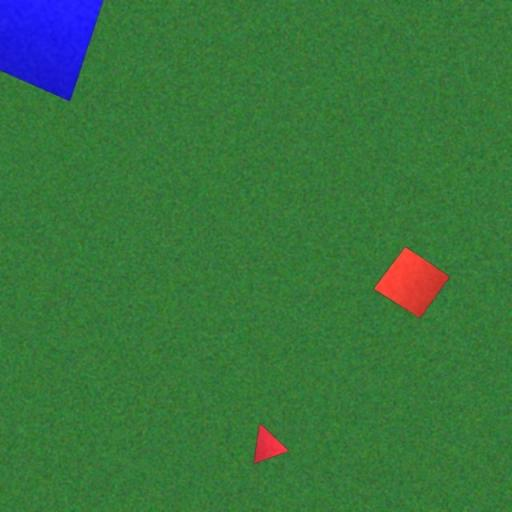BLUE_SQUARE: (0, 0, 105, 102)
RED_SQUARE: (373, 246, 451, 319)
